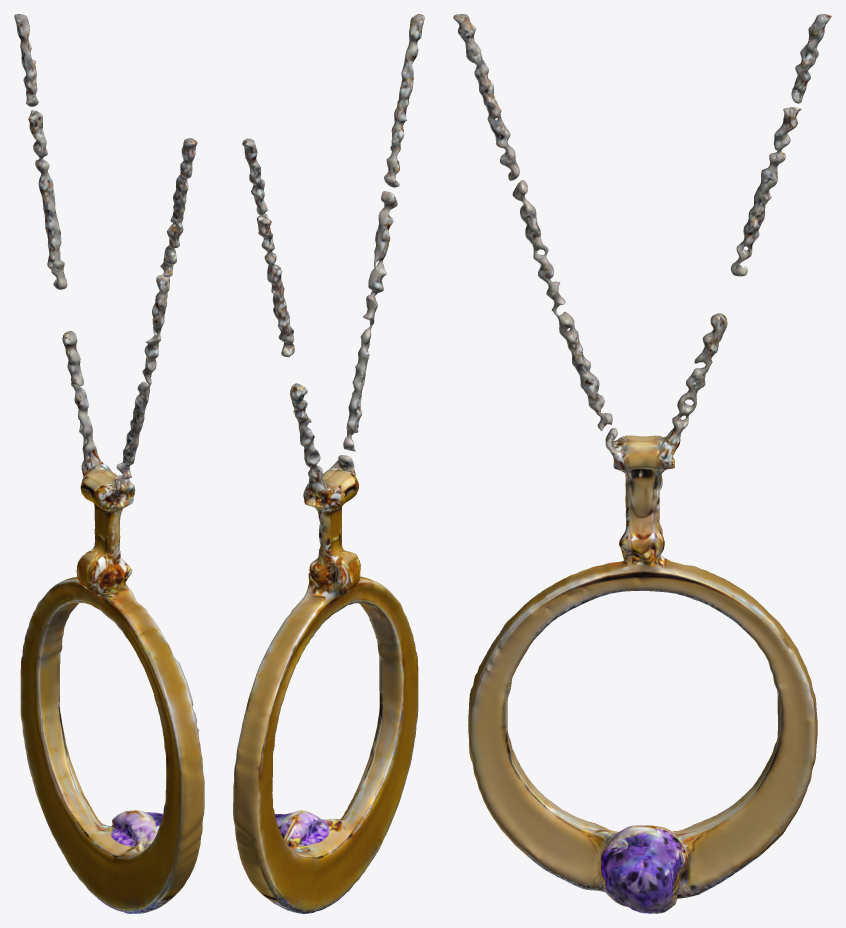
Rendered from JTT001.glb.
The picture shows the model from 3 angles, left to right: view 1: azimuth 30°, elevation 25°; view 2: azimuth 150°, elevation 25°; view 3: azimuth 270°, elevation 25°; orthographic projection. The views are drawn at different scales.
Parts seen in each view (by area): view 1: tripo_node_6f6ff92b-71a6-4bdc-887e-d83099ba1624; view 2: tripo_node_6f6ff92b-71a6-4bdc-887e-d83099ba1624; view 3: tripo_node_6f6ff92b-71a6-4bdc-887e-d83099ba1624.
Boxes of the visible parts, x1,y1,x2,y2 form: tripo_node_6f6ff92b-71a6-4bdc-887e-d83099ba1624: [14, 14, 204, 913]; tripo_node_6f6ff92b-71a6-4bdc-887e-d83099ba1624: [233, 14, 424, 913]; tripo_node_6f6ff92b-71a6-4bdc-887e-d83099ba1624: [453, 14, 831, 913].
Size of the model in its own units: 0.1346 by 0.9918 by 0.3863.
Materials: 1 (1 with a texture image).
